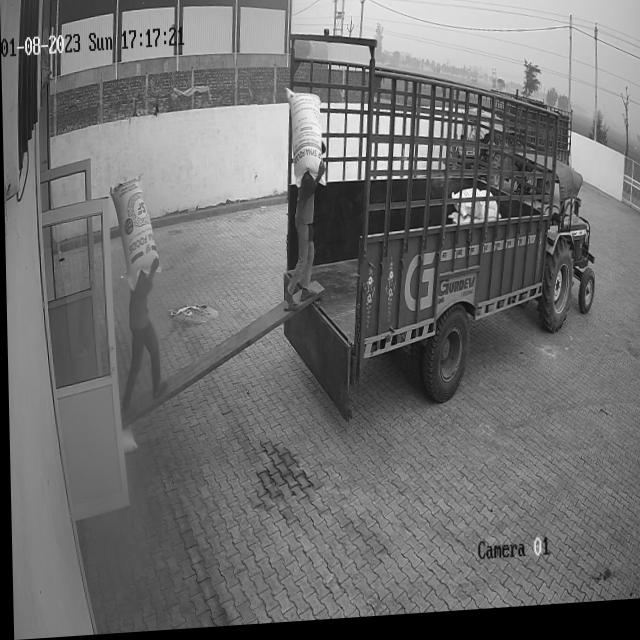sack: (108, 176, 160, 294), (284, 88, 324, 192)
